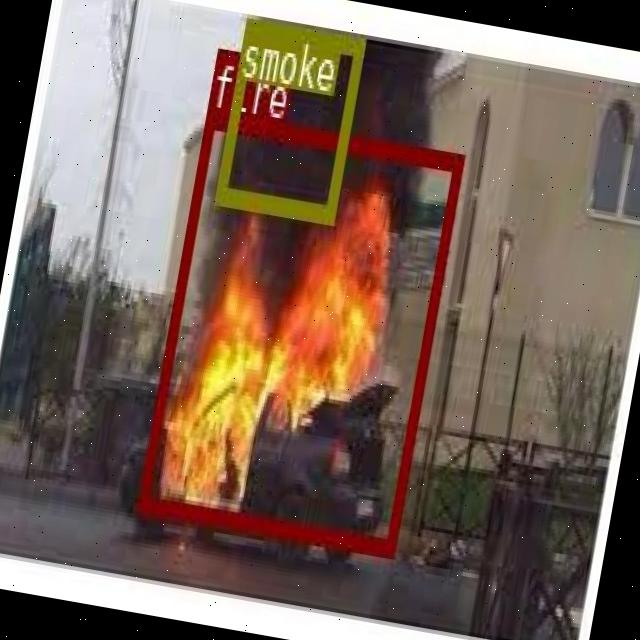fire: (135, 108, 462, 553)
smoke: (214, 13, 364, 222)
